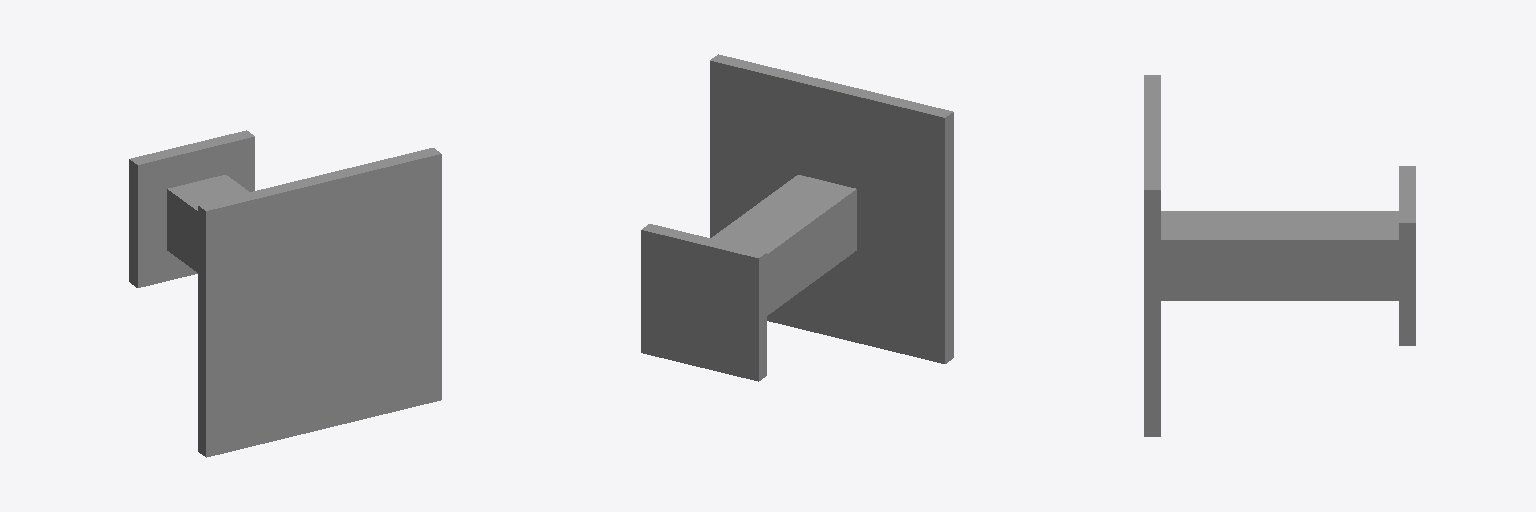
File: inventorysensor.obj
3 views of the same model, side by side, from view 1: azimuth 30°, elevation 25°; view 2: azimuth 150°, elevation 25°; view 3: azimuth 270°, elevation 25° (orthographic).
Parts seen in each view (by area): view 1: Cube; view 2: Cube; view 3: Cube.
Boxes of the visible parts, <box> form: Cube: <box>129,130,441,457</box>; Cube: <box>641,54,953,381</box>; Cube: <box>1144,75,1415,436</box>.
Size of the model in its own units: 1 by 1 by 1.